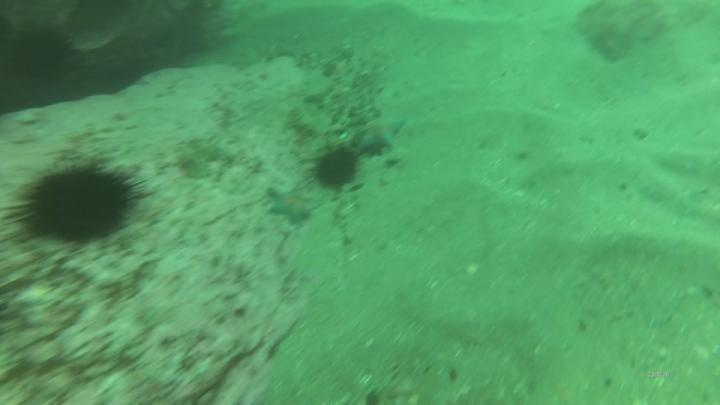echinus: (20, 161, 139, 247), (311, 145, 362, 193)
holothurian: (178, 134, 224, 180)
starfish: (267, 184, 322, 230), (353, 119, 409, 155)
